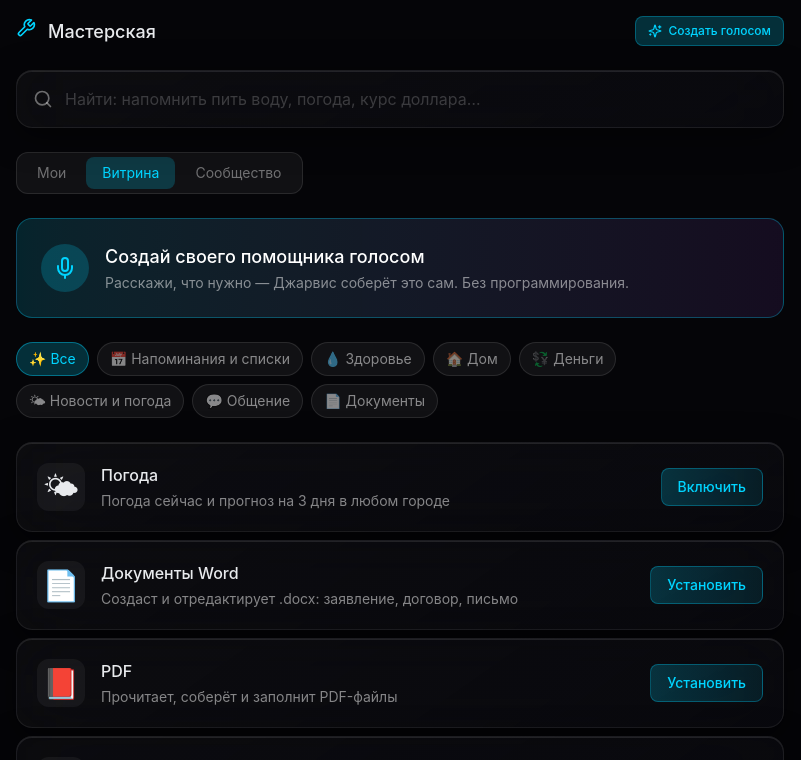
Test case: AgentStore (Мастерская) › Сообщество degrades gracefully when the catalog is unreachable
The width and height of the screenshot is (801, 760).
Click the button "Сообщество". click: (238, 173)
box: [180, 157, 298, 189]
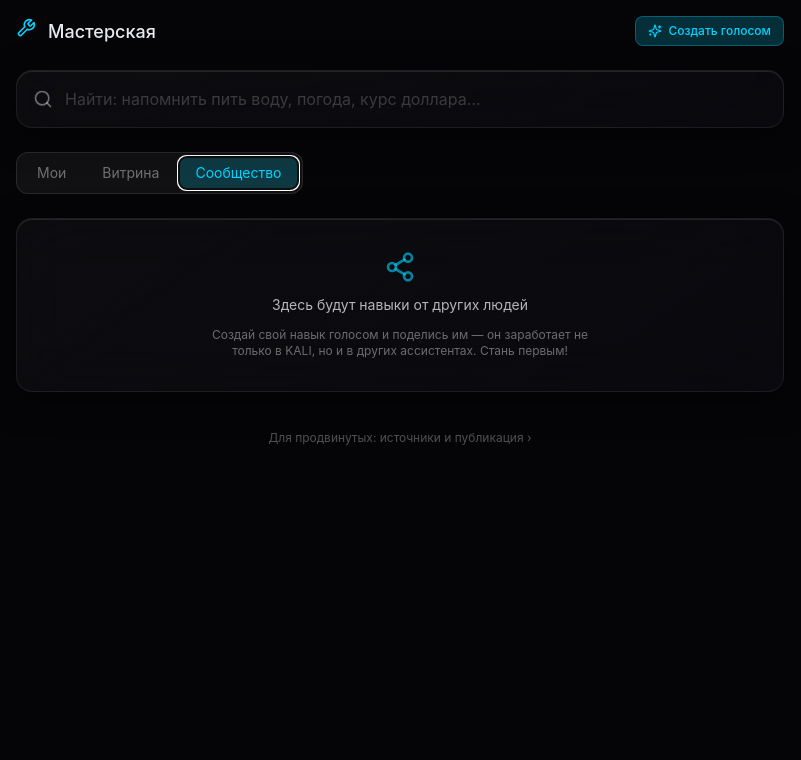
Check: the text "Стань первым" is shown, box [212, 327, 588, 358]
